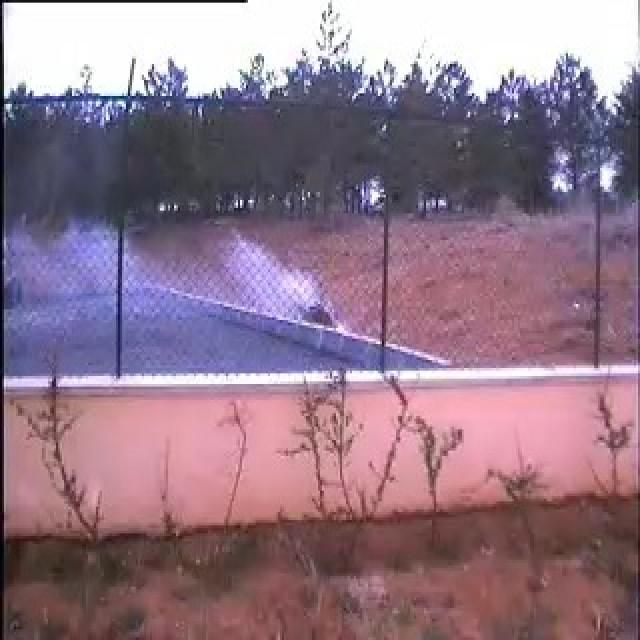smoke: (54, 211, 338, 368)
